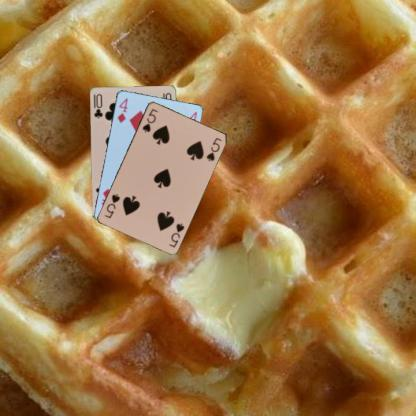10c: (92, 91, 104, 120)
4d: (114, 95, 129, 124)
5s: (166, 220, 186, 249), (140, 106, 159, 134)
